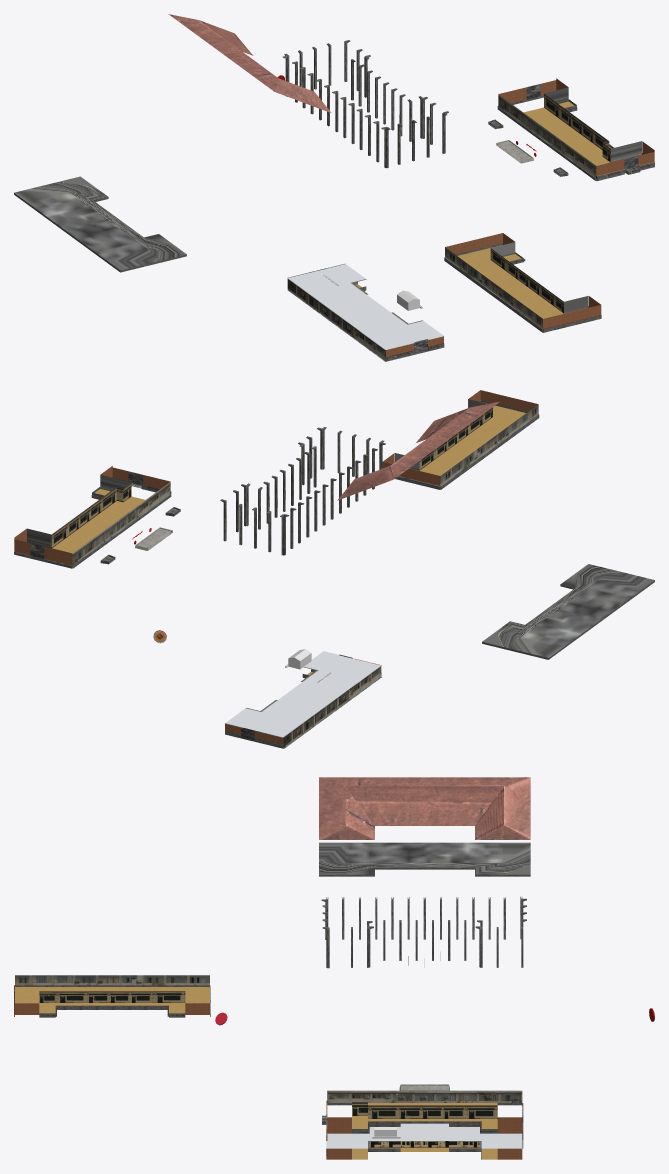
The model's file is coe_Building.glb.
3 views of the same model, one above another, from view 1: azimuth 30°, elevation 25°; view 2: azimuth 150°, elevation 25°; view 3: azimuth 270°, elevation 25° (orthographic).
Visible parts, largest first — view 1: Cube, Cube.039, Cube.042, Cube.041, Cube.018; view 2: Cube, Cube.042, Cube.039, Cube.041, Cube.018; view 3: Cube.018, Cube.041, Cube.042, Cube.039, Cube.
Part boxes in pixels (x1,y1,x2,y2): Cube: (287,263,444,361); Cube.039: (14,176,186,272); Cube.042: (497,78,654,181); Cube.041: (444,233,601,332); Cube.018: (168,14,331,112); Cube: (225,651,381,748); Cube.042: (14,466,171,568); Cube.039: (482,564,654,659); Cube.041: (382,390,539,489); Cube.018: (337,401,499,500); Cube.018: (319,777,530,839); Cube.041: (14,975,210,1017); Cube.042: (322,1090,523,1133); Cube.039: (319,842,530,876); Cube: (326,1123,523,1159).
Bounding box in the file's own units: 137 × 72.91 × 142.
Materials: 15 (14 with a texture image).
